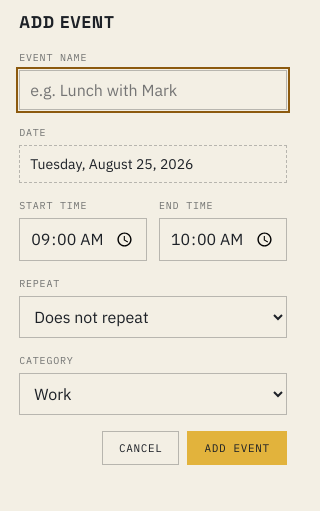
Scenario: AddEventForm › shows a validation error and does not submit when the name is empty
Click the button "Add Event" at point(237, 448), box [188,431,287,465]
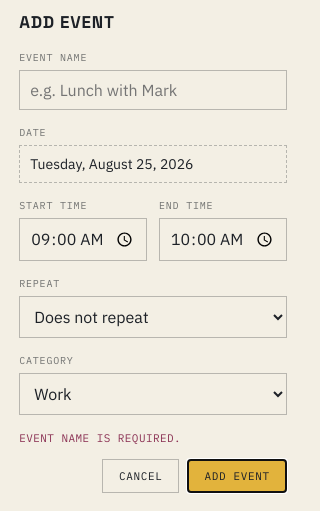
Expected: the message shows "Event name is required", [19,431,181,445]
